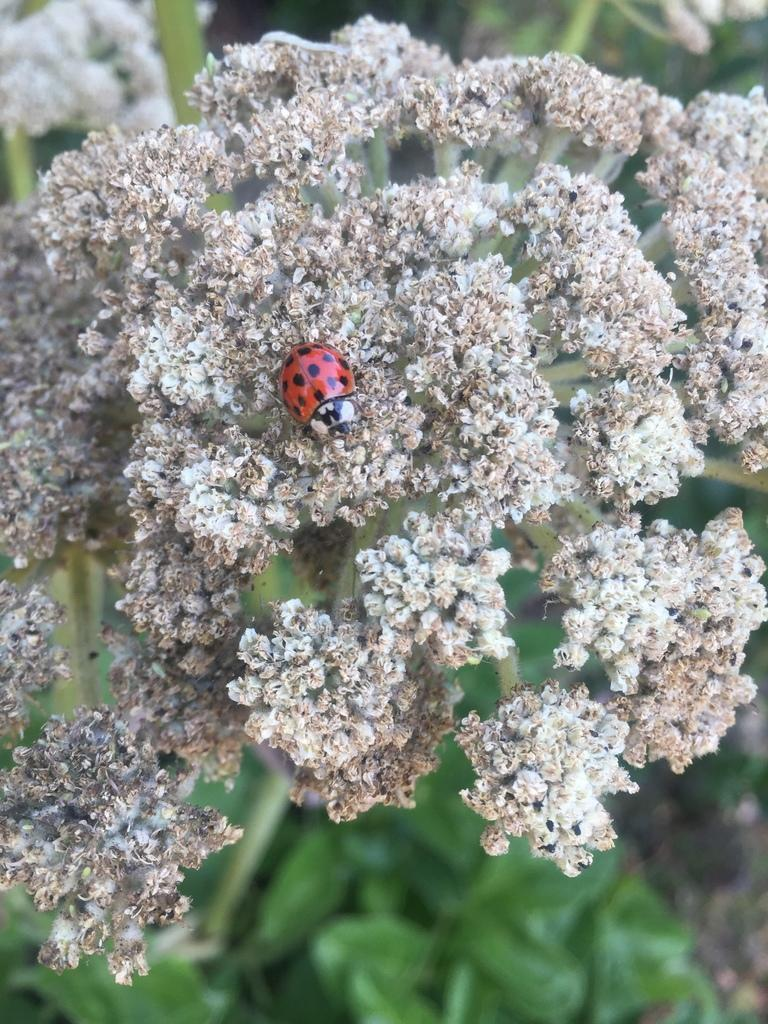ladybug: (273, 340, 369, 443)
